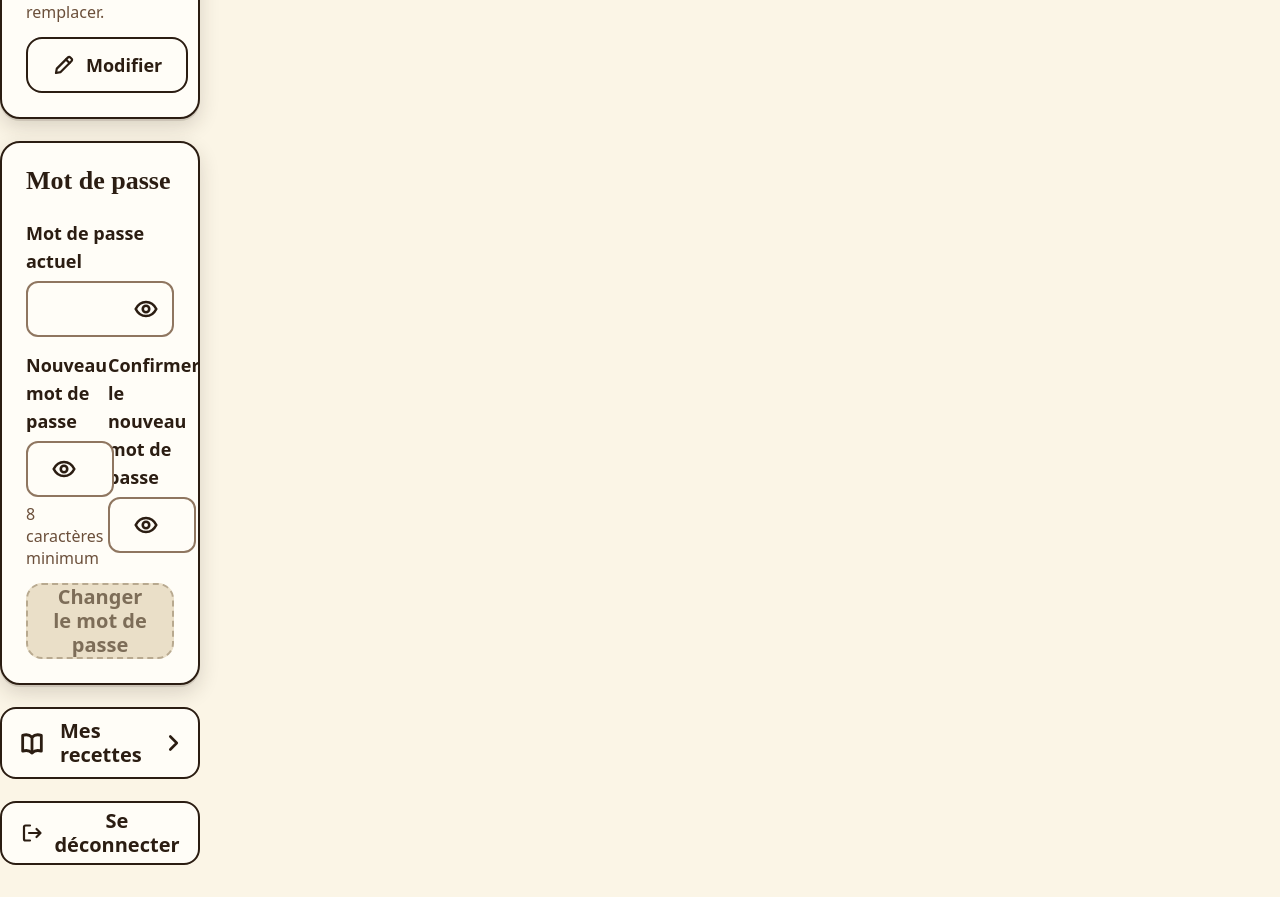
Test case: AccountScreen › « Se déconnecter » › stays signed in when the answer is « Rester connecté »
(page scrolled)
Step 1. Click the button "Se déconnecter" → (100, 833), box x1=0 y1=801 x2=200 y2=865
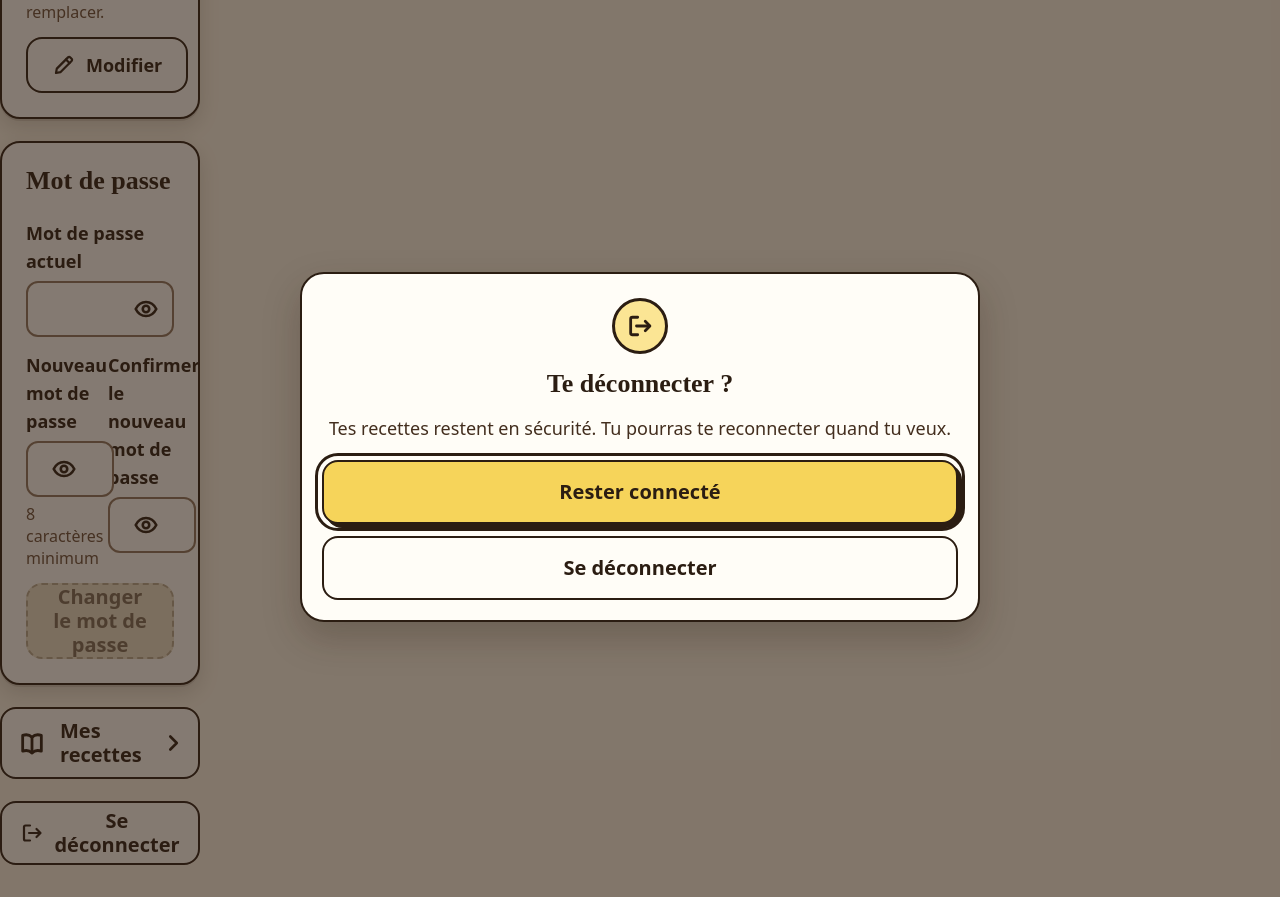
Step 2. Click the button "Rester connecté" → (640, 492), box x1=322 y1=460 x2=958 y2=524
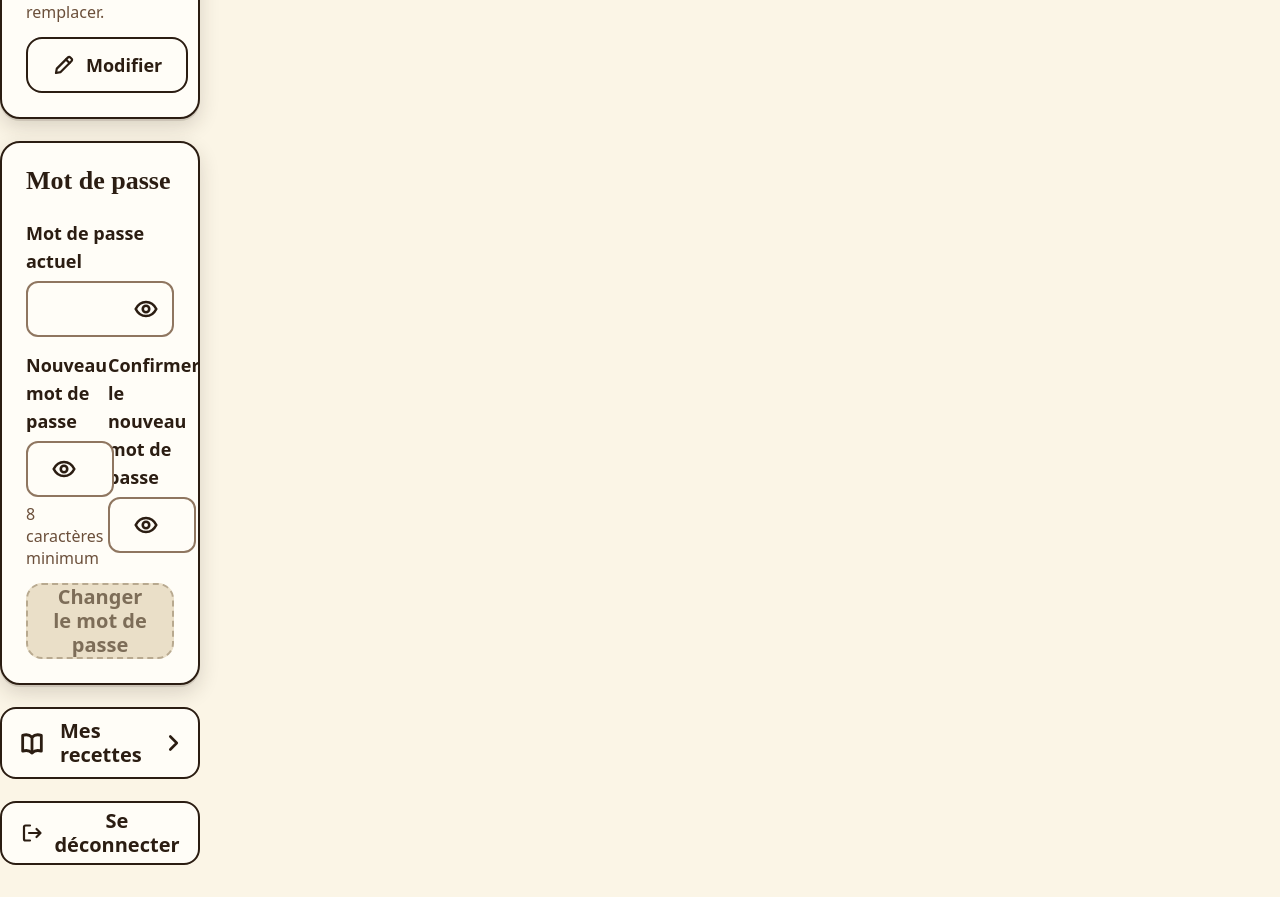
Now the dialog is gone
